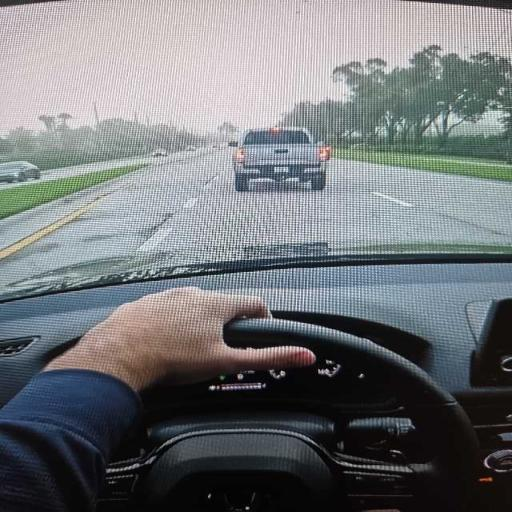car: (230, 127, 330, 191), (0, 161, 40, 182), (152, 149, 168, 157), (185, 146, 196, 151)
lane: (0, 150, 511, 285), (0, 153, 226, 285), (333, 160, 511, 235), (0, 148, 211, 190)
person: (0, 288, 314, 511)
